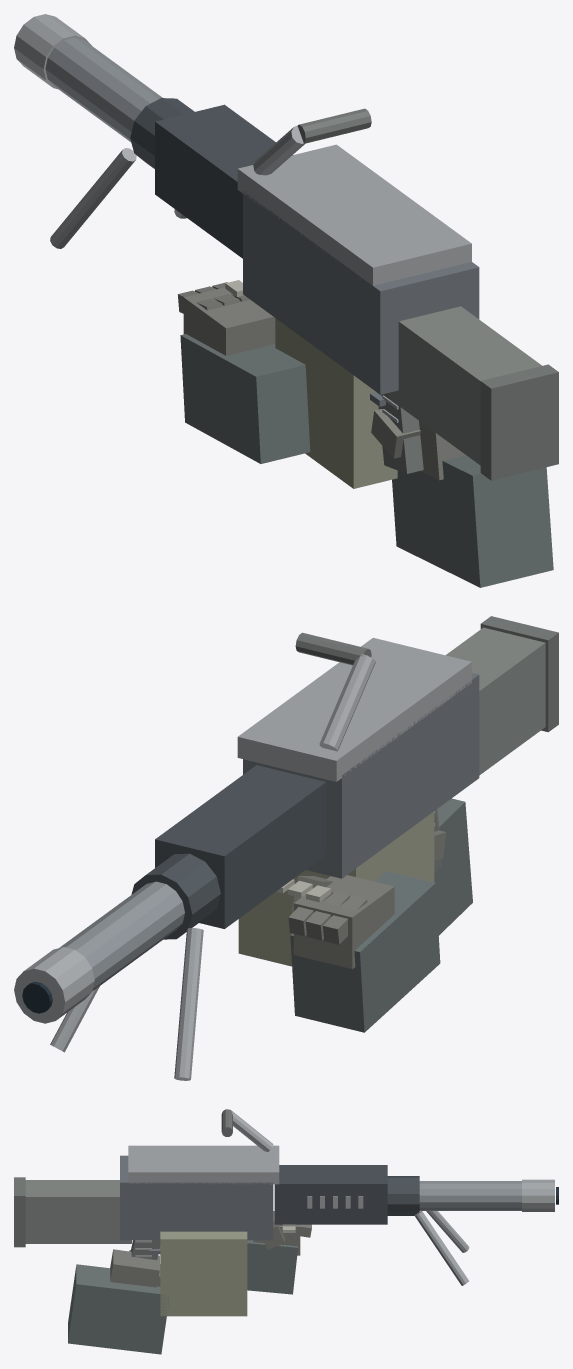
3 views of the same model, one above another, from view 1: azimuth 30°, elevation 25°; view 2: azimuth 150°, elevation 25°; view 3: azimuth 270°, elevation 25° (orthographic). The views are drawn at different scales.
Parts seen in each view (by area): view 1: heavy_receiver_000, receiver_cover_001, sleeve_right_045, sleeve_left_043, heavy_buttstock_007, long_handguard_002, ammo_box_009, buttpad_008, heavy_barrel_003, palm_left_044, flash_hider_005, bipod_leg_013 (+6 smaller); view 2: heavy_receiver_000, receiver_cover_001, long_handguard_002, sleeve_left_043, heavy_buttstock_007, ammo_box_009, heavy_barrel_003, palm_left_044, sleeve_right_045, flash_hider_005, heat_shield_004, bipod_leg_013 (+7 smaller); view 3: heavy_receiver_000, ammo_box_009, sleeve_right_045, long_handguard_002, heavy_buttstock_007, receiver_cover_001, heavy_barrel_003, sleeve_left_043, palm_right_046, heat_shield_004, flash_hider_005, buttpad_008 (+5 smaller).
Boxes of the visible parts, x1,y1,x2,y2 form: heavy_receiver_000: (243, 191, 479, 394); receiver_cover_001: (237, 144, 471, 286); sleeve_right_045: (392, 455, 553, 587); sleeve_left_043: (180, 334, 310, 463); heavy_buttstock_007: (388, 306, 541, 465); long_handguard_002: (155, 104, 275, 258); ammo_box_009: (275, 318, 397, 488); buttpad_008: (480, 364, 558, 480); heavy_barrel_003: (45, 37, 162, 142); palm_left_044: (183, 287, 275, 355); flash_hider_005: (14, 14, 91, 89); bipod_leg_013: (50, 148, 136, 248); heavy_receiver_000: (243, 673, 479, 878); receiver_cover_001: (237, 637, 471, 781); long_handguard_002: (155, 765, 326, 928); sleeve_left_043: (290, 871, 440, 1032); heavy_buttstock_007: (446, 627, 545, 775); ammo_box_009: (238, 811, 434, 966); heavy_barrel_003: (59, 881, 184, 990); palm_left_044: (293, 875, 394, 969); sleeve_right_045: (434, 798, 472, 935); flash_hider_005: (14, 947, 94, 1023); heat_shield_004: (131, 853, 220, 939); bipod_leg_013: (174, 928, 203, 1080); heavy_receiver_000: (120, 1155, 273, 1240); ammo_box_009: (160, 1231, 247, 1316); sleeve_right_045: (68, 1264, 168, 1354); long_handguard_002: (274, 1165, 387, 1224); heavy_buttstock_007: (25, 1180, 131, 1243); receiver_cover_001: (128, 1145, 279, 1184); heavy_barrel_003: (419, 1181, 521, 1210); sleeve_left_043: (247, 1240, 297, 1294); palm_right_046: (110, 1249, 159, 1287); heat_shield_004: (387, 1176, 419, 1215); flash_hider_005: (522, 1179, 554, 1211); buttpad_008: (14, 1177, 25, 1247).
Bounding box in the file's own units: 0.455 × 1.01 × 2.31.
